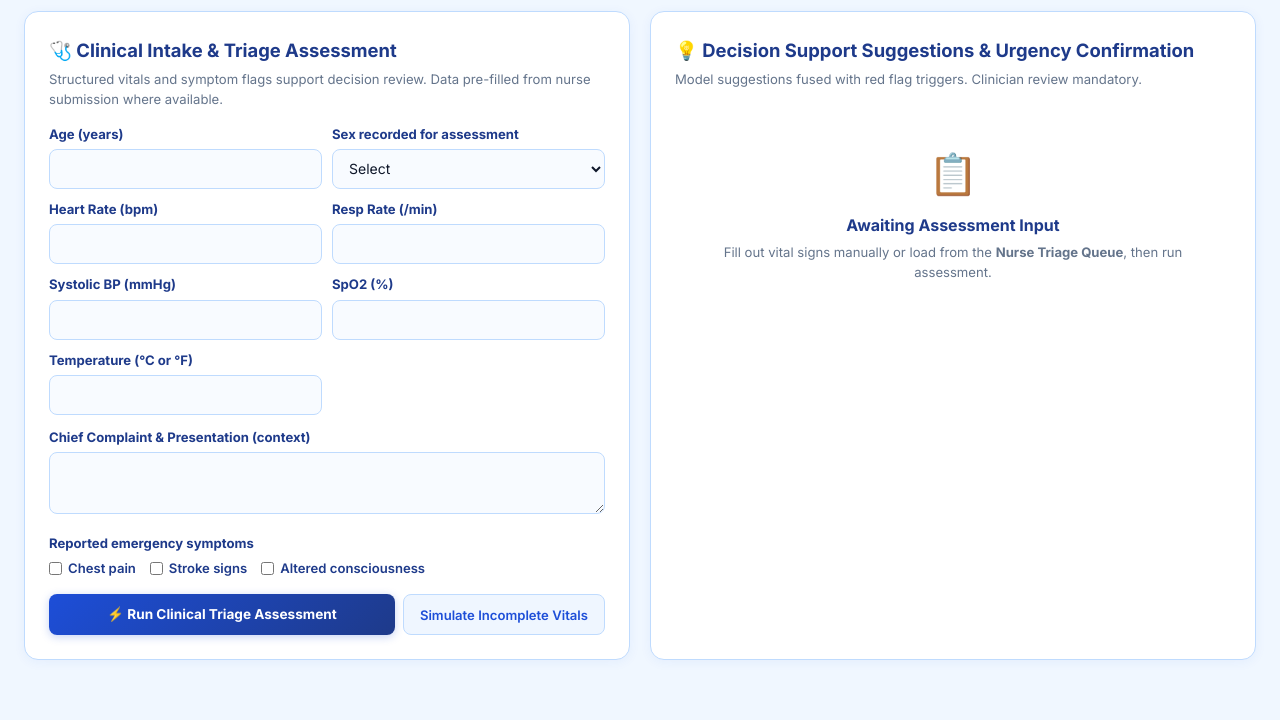
doctor assessment and referral results › reports insufficient intake without sending an assessment when required values are missing
(page scrolled)
Step 1. Click the button "⚡ Run Clinical Triage Assessment" → (222, 615), box [49,594,395,635]
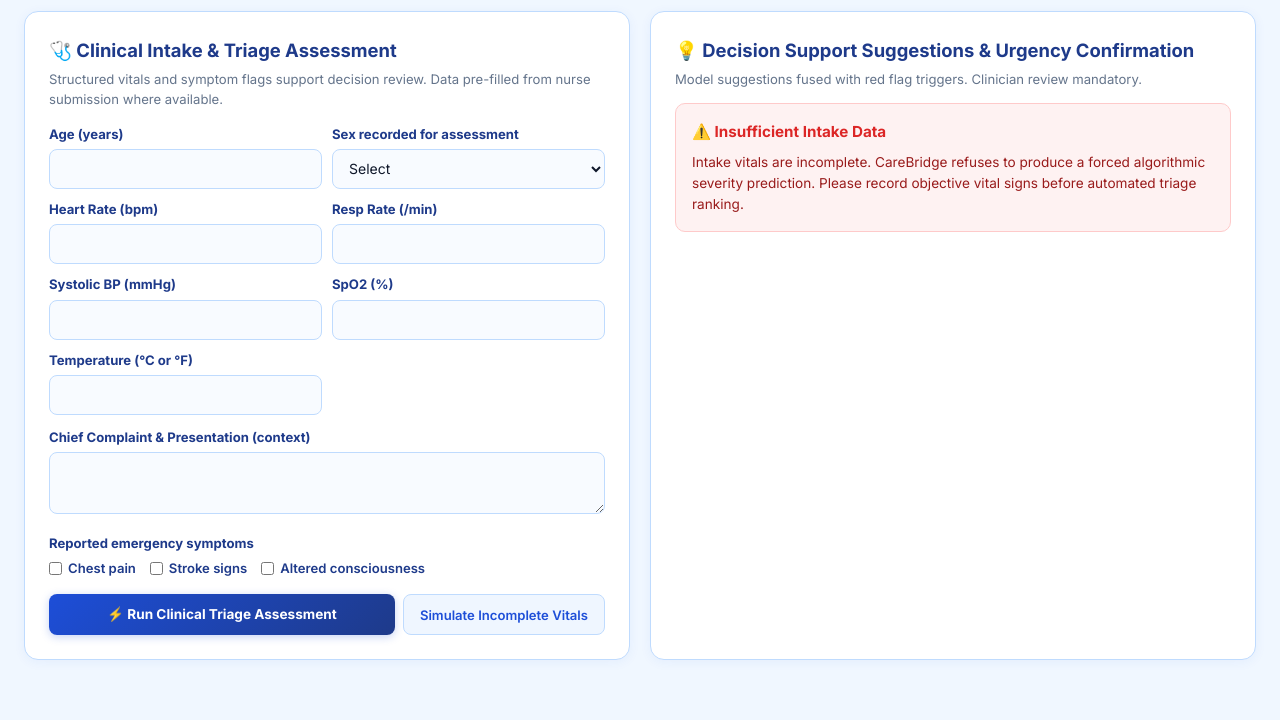
Result: the text "Intake vitals are incomplete" is shown at [692,154,1205,212]
